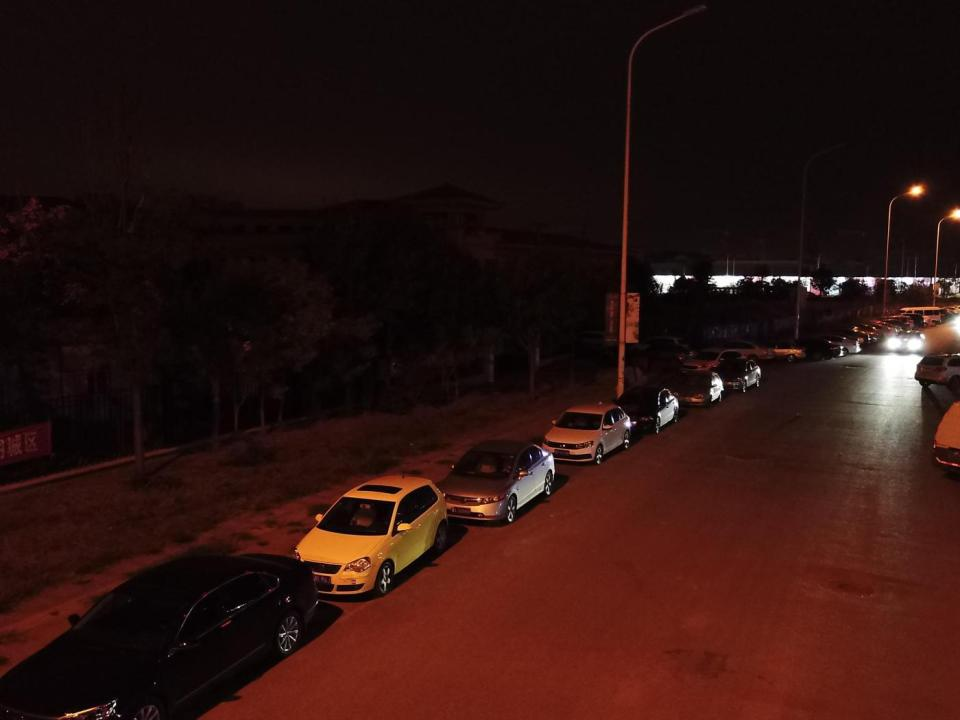car: (1, 551, 319, 720), (288, 473, 461, 597), (432, 437, 562, 525), (539, 401, 636, 463), (604, 378, 682, 437), (678, 344, 750, 378), (667, 370, 732, 406), (633, 334, 696, 366), (915, 350, 960, 391), (714, 357, 765, 392), (567, 326, 622, 356), (634, 344, 696, 370), (782, 336, 842, 362), (804, 333, 862, 359), (753, 337, 806, 364), (809, 328, 865, 352), (714, 340, 774, 362), (814, 327, 874, 348), (894, 329, 927, 353), (869, 318, 911, 334), (846, 324, 881, 340), (864, 322, 898, 338), (901, 311, 932, 328), (896, 312, 925, 328), (888, 314, 915, 329), (882, 316, 913, 329), (924, 306, 954, 319), (922, 308, 950, 321), (931, 305, 958, 316), (939, 305, 959, 318)
van: (899, 306, 941, 326)
